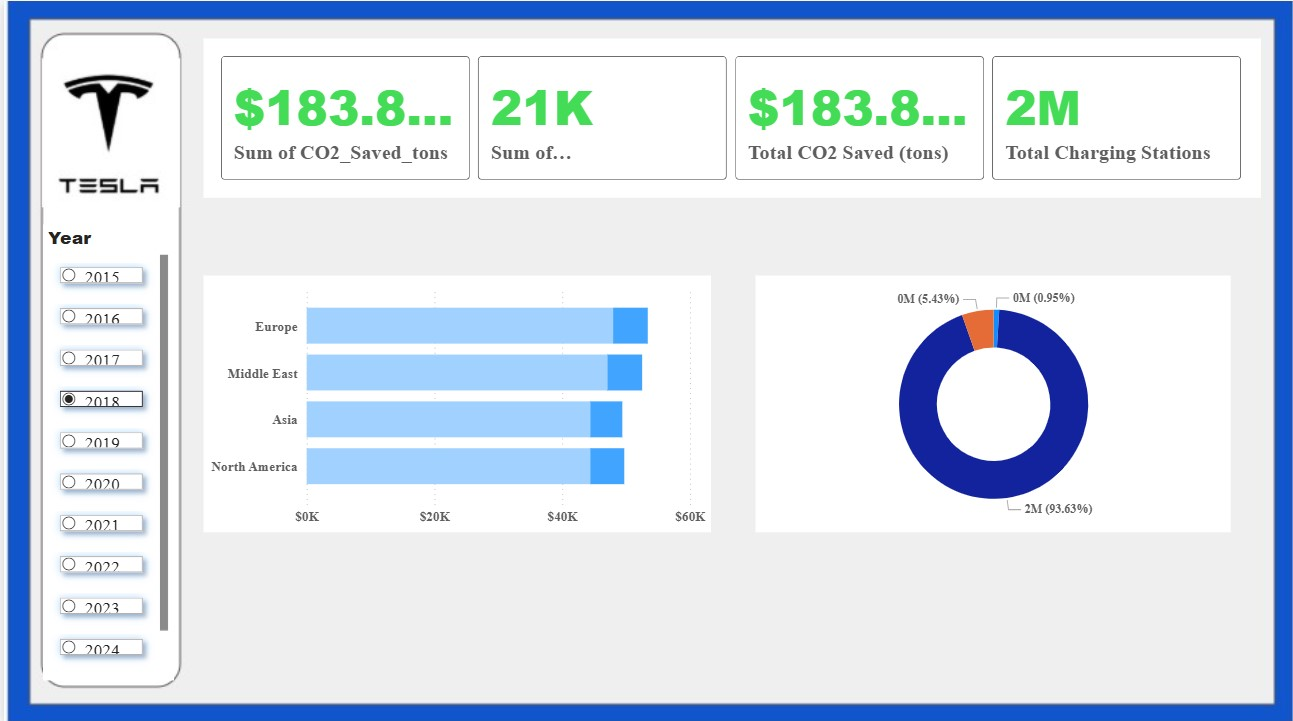

Layout of this report page (visuals, bound fields, positions):
{"tool":"powerbi","page":{"name":"Tesla Sustainability & Infrastructure Impact Dashboard","canvas":[1280,720],"ordinal":1},"visuals":[{"type":"listSlicer","fields":{"Values":["tesla_deliveries_data.Year"]},"box":[39.4,222.1,129.2,452.1],"z":0},{"type":"cardVisual","fields":{"Data":["Sum(tesla_deliveries_data.CO2_Saved_tons)","Sum(tesla_deliveries_data.Battery_Capacity_kWh)","tesla_deliveries_data.Total CO2 Saved (tons)","tesla_deliveries_data.Total Charging Stations"]},"box":[197.9,37.9,1048.4,157.9],"z":1000},{"type":"barChart","fields":{"Category":["tesla_deliveries_data.Region"],"Y":["tesla_deliveries_data.Total CO2 Saved (tons)","Sum(tesla_deliveries_data.Battery_Capacity_kWh)"]},"box":[197.9,271.6,503.2,254.7],"z":2000},{"type":"donutChart","fields":{"Y":["Sum(tesla_deliveries_data.Battery_Capacity_kWh)","Sum(tesla_deliveries_data.Charging_Stations)","Sum(tesla_deliveries_data.Range_km)"]},"box":[745.3,271.6,471.6,254.7],"z":3000}]}

Visuals, with their boxes in screenshot pixels (x1, y1, x2, y2), scaled from the page's 1280x720 canvas onto the 1293x721 screenshot:
listSlicer - tesla_deliveries_data.Year: [left=40, top=222, right=170, bottom=675]
cardVisual - Sum(tesla_deliveries_data.CO2_Saved_tons) x Sum(tesla_deliveries_data.Battery_Capacity_kWh): [left=200, top=38, right=1259, bottom=196]
barChart - tesla_deliveries_data.Region x tesla_deliveries_data.Total CO2 Saved (tons): [left=200, top=272, right=708, bottom=527]
donutChart - Sum(tesla_deliveries_data.Battery_Capacity_kWh) x Sum(tesla_deliveries_data.Charging_Stations): [left=753, top=272, right=1229, bottom=527]
